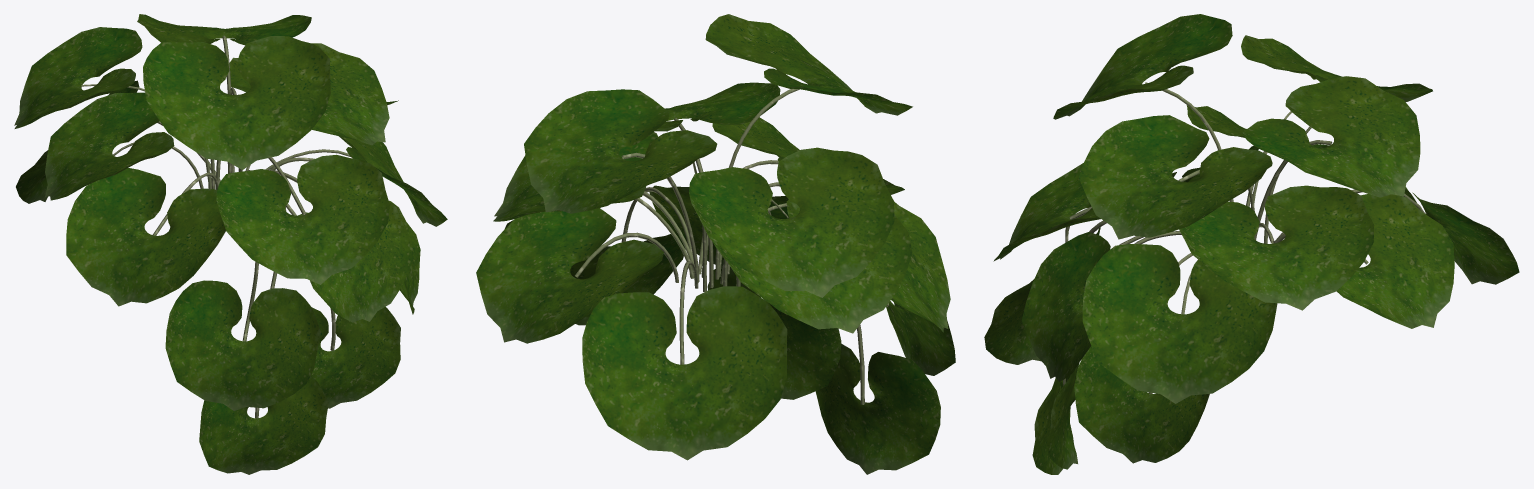
The model's file is Plant_I.fbx.
3 renders of one model, left to right at view 1: azimuth 30°, elevation 25°; view 2: azimuth 150°, elevation 25°; view 3: azimuth 270°, elevation 25°, orthographic. The views are drawn at different scales.
Parts seen in each view (by area): view 1: Plant_III1, Plant_III2; view 2: Plant_III1, Plant_III2; view 3: Plant_III1, Plant_III2.
Part boxes in pixels (bbox=[...]): Plant_III1: bbox=[14, 14, 447, 410]; Plant_III2: bbox=[199, 170, 400, 474]; Plant_III1: bbox=[476, 14, 955, 460]; Plant_III2: bbox=[707, 182, 940, 474]; Plant_III1: bbox=[984, 14, 1519, 463]; Plant_III2: bbox=[1032, 220, 1143, 474].
Bounding box in the file's own units: 0.2241 × 0.2378 × 0.266.
